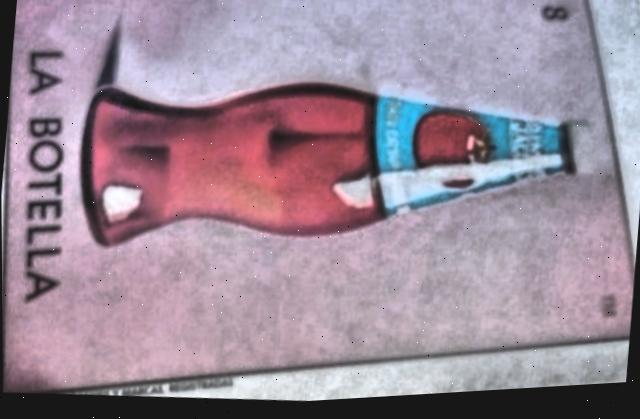La Botella: (2, 0, 634, 392)
